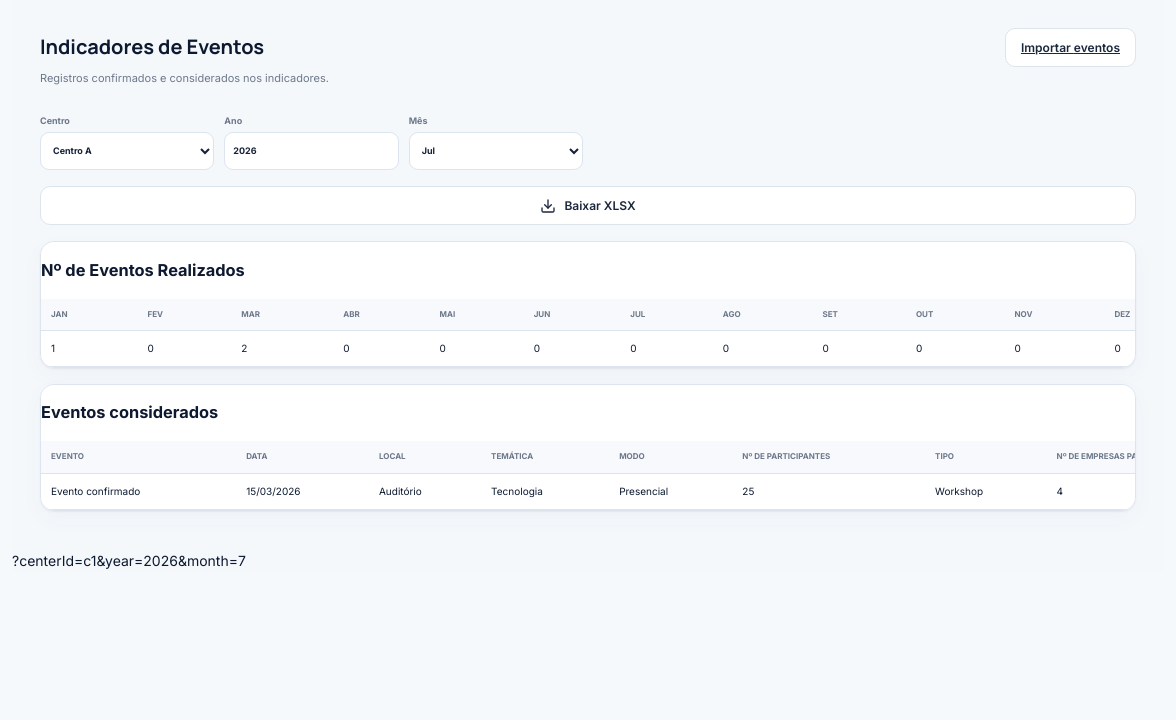
Test case: telas específicas de indicadores confirmados › mantem month na query e na consulta ao trocar centro e ano
Expected: the text "Evento confirmado" is shown, [41,474,236,509]
Step 1. Select "Centro B" in the dropdown labelled "Centro" → [127, 151], box [40,132,214,170]
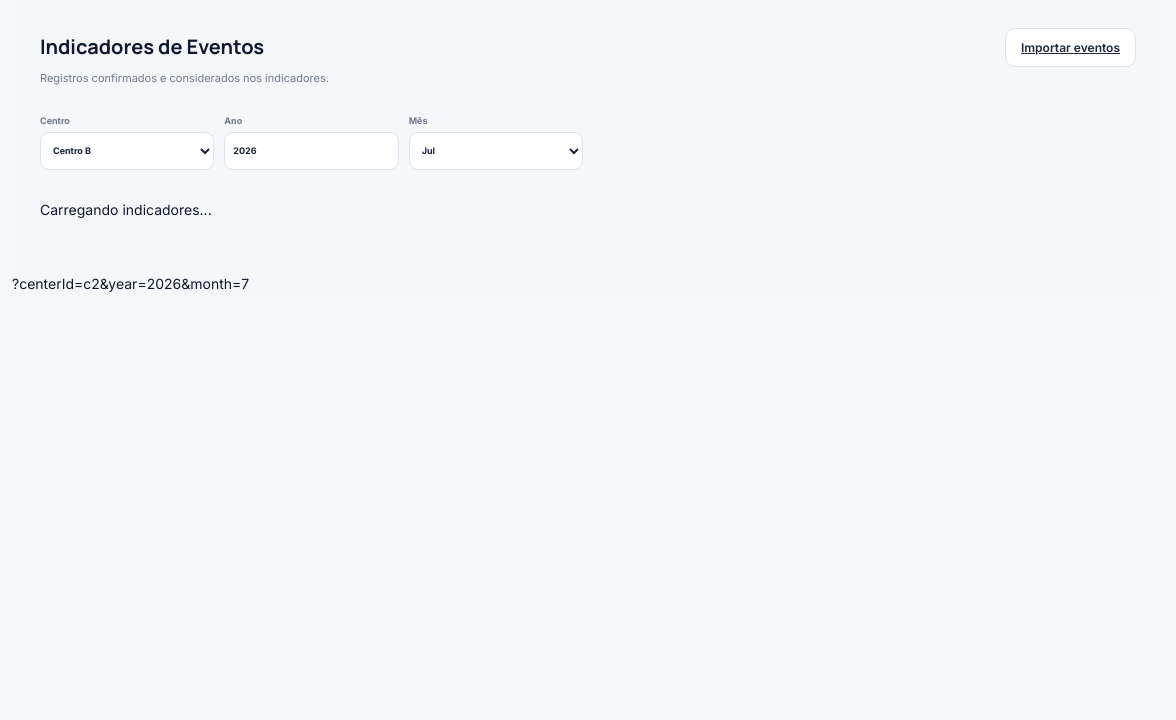
Step 2. Replace the text in the number field labelled "Ano" with "2027" → [311, 151], box [224,132,399,170]
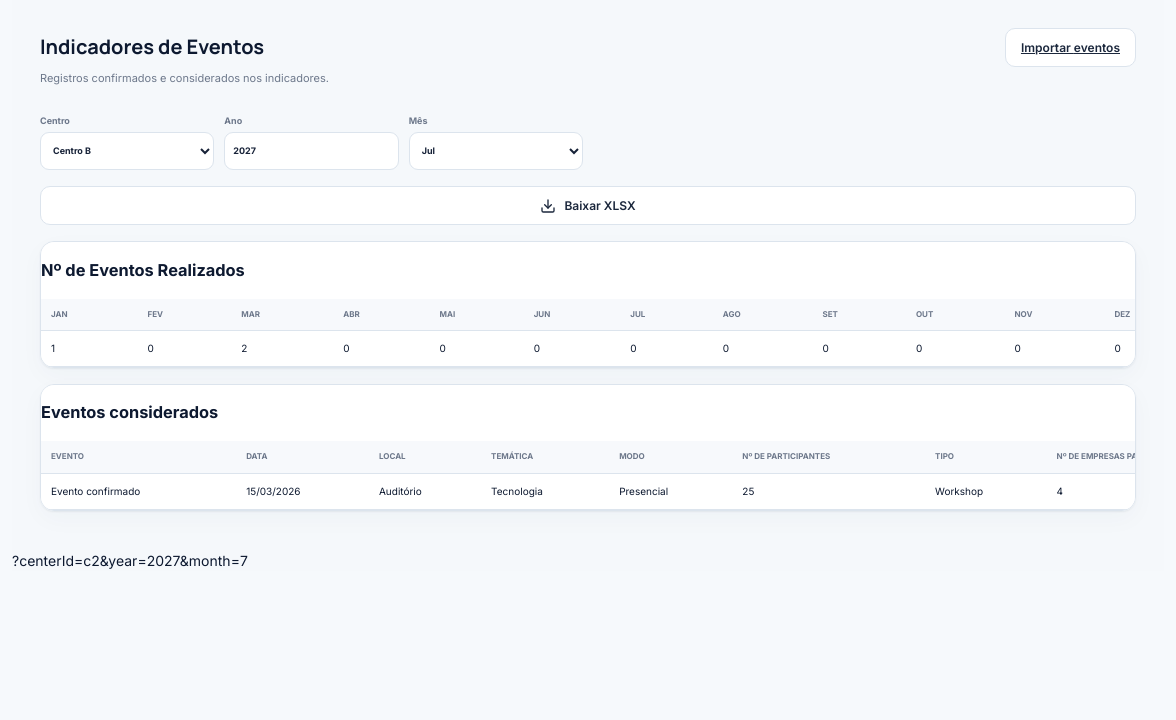
Result: the text with test id "query-location" reads "?centerId=c2&year=2027&month=7" at [12,552,248,568]
